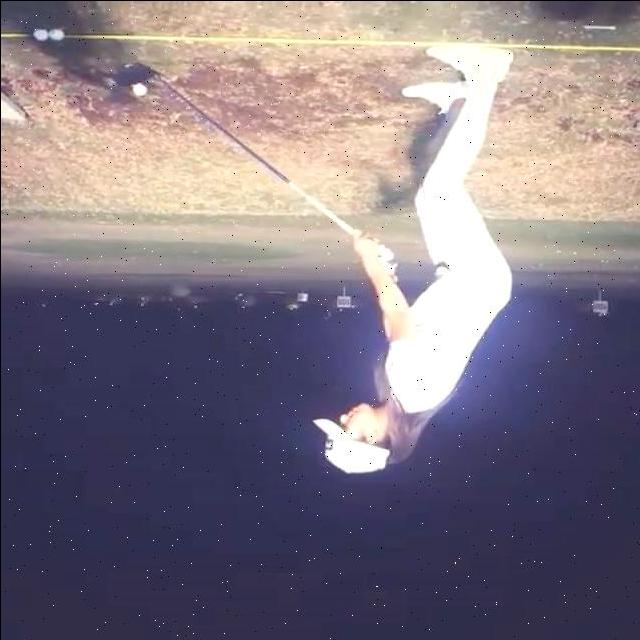golf ball: (132, 81, 148, 94), (32, 28, 47, 38), (48, 29, 63, 38)
golf club-handle: (115, 61, 400, 269)
golf club-head: (114, 61, 156, 85)
